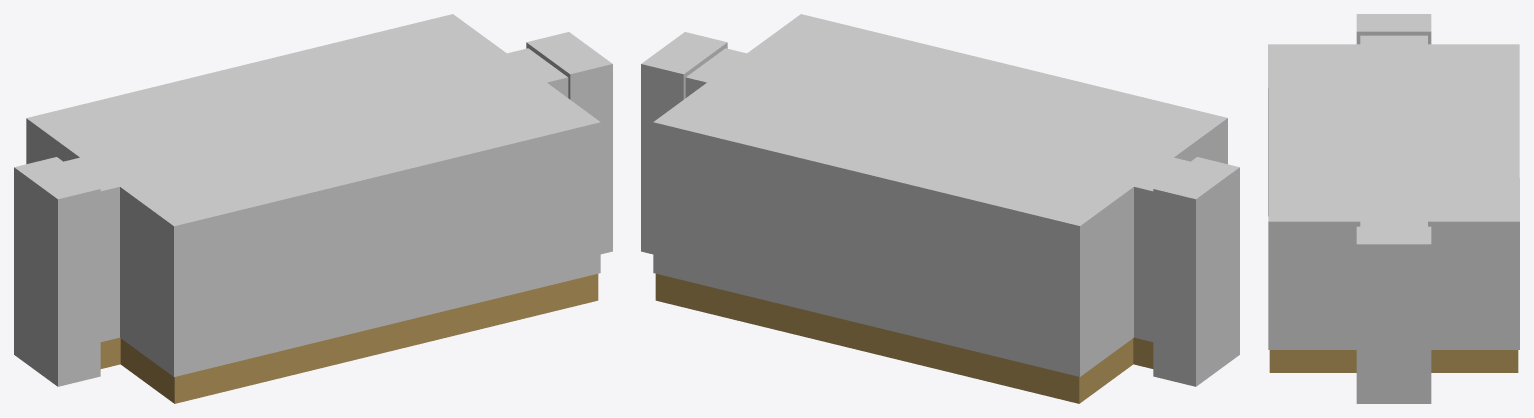
File: gallery_2s.glb
The picture shows the model from 3 angles, left to right: view 1: azimuth 30°, elevation 25°; view 2: azimuth 150°, elevation 25°; view 3: azimuth 270°, elevation 25°; orthographic projection. The views are drawn at different scales.
Visible parts, largest first — view 1: Cube.003, trigger.003, trigger.004; view 2: Cube.003, trigger.003, trigger.004; view 3: Cube.003, trigger.004, trigger.003.
Part boxes in pixels (x1,y1,x2,y2): Cube.003: (26,14,600,403); trigger.003: (14,157,100,386); trigger.004: (526,32,612,254); Cube.003: (653,14,1227,403); trigger.003: (1153,157,1239,386); trigger.004: (641,32,727,254); Cube.003: (1268,35,1519,372); trigger.004: (1356,226,1431,403); trigger.003: (1356,14,1431,44).
Size of the model in its own units: 13 by 4.2 by 6.
